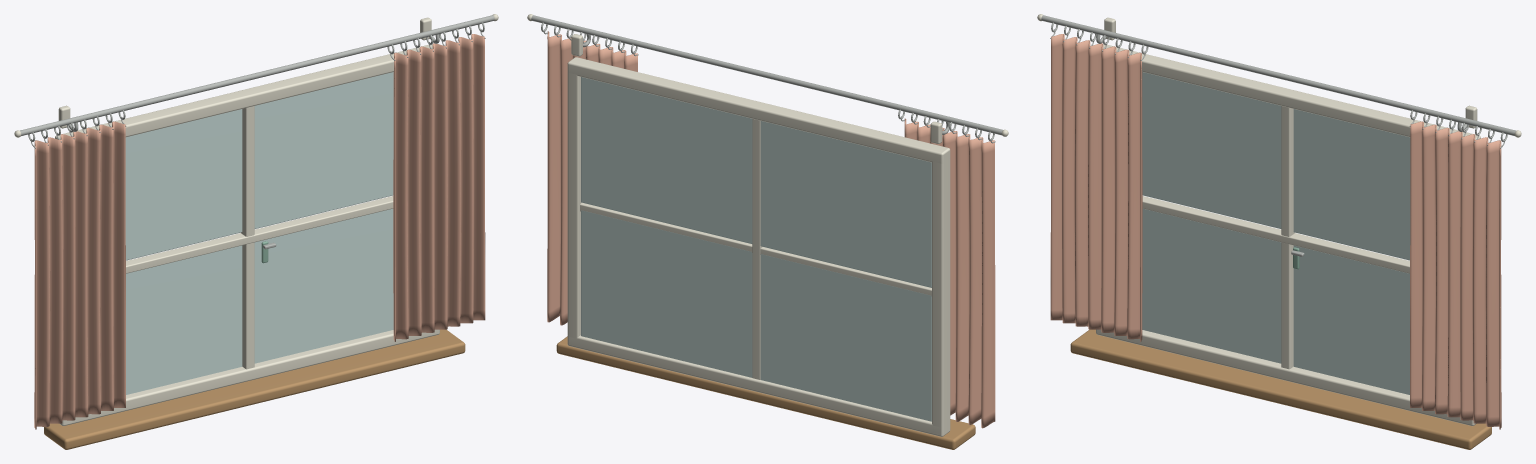
Rendered from window-curtains.glb.
3 views of the same model, side by side, from view 1: azimuth 30°, elevation 25°; view 2: azimuth 150°, elevation 25°; view 3: azimuth 330°, elevation 25° (orthographic).
Parts seen in each view (by area): view 1: WindowCurtains | Pale frosted window glass.001, WindowCurtains | Peach woven curtain.001, WindowCurtains | Warm ivory powder coat.001, WindowCurtains | Honey oak sill.001, WindowCurtains | Satin curtain rail.001; view 2: WindowCurtains | Pale frosted window glass.001, WindowCurtains | Warm ivory powder coat.001, WindowCurtains | Peach woven curtain.001, WindowCurtains | Honey oak sill.001, WindowCurtains | Satin curtain rail.001; view 3: WindowCurtains | Pale frosted window glass.001, WindowCurtains | Peach woven curtain.001, WindowCurtains | Warm ivory powder coat.001, WindowCurtains | Honey oak sill.001, WindowCurtains | Satin curtain rail.001.
Part boxes in pixels (<box>): WindowCurtains | Pale frosted window glass.001: <box>125,72,393,394</box>; WindowCurtains | Peach woven curtain.001: <box>34,34,485,429</box>; WindowCurtains | Warm ivory powder coat.001: <box>14,14,498,426</box>; WindowCurtains | Honey oak sill.001: <box>44,329,465,449</box>; WindowCurtains | Satin curtain rail.001: <box>20,15,494,249</box>; WindowCurtains | Pale frosted window glass.001: <box>581,77,931,421</box>; WindowCurtains | Warm ivory powder coat.001: <box>527,14,1008,436</box>; WindowCurtains | Peach woven curtain.001: <box>547,31,995,428</box>; WindowCurtains | Honey oak sill.001: <box>556,336,975,449</box>; WindowCurtains | Satin curtain rail.001: <box>531,15,1002,143</box>; WindowCurtains | Pale frosted window glass.001: <box>1142,72,1410,394</box>; WindowCurtains | Peach woven curtain.001: <box>1050,34,1501,429</box>; WindowCurtains | Warm ivory powder coat.001: <box>1037,14,1521,426</box>; WindowCurtains | Honey oak sill.001: <box>1070,329,1491,449</box>; WindowCurtains | Satin curtain rail.001: <box>1041,15,1515,256</box>.
Bounding box in the file's own units: 4.6 × 2.95 × 0.375.
